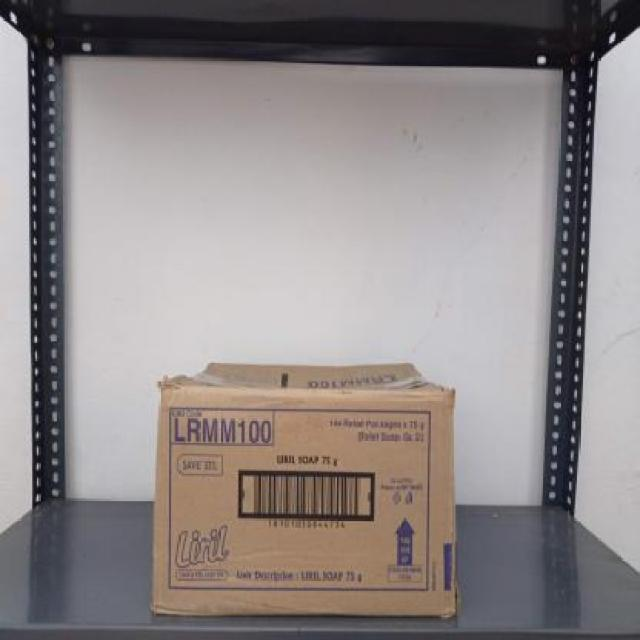box: (154, 386, 457, 611)
